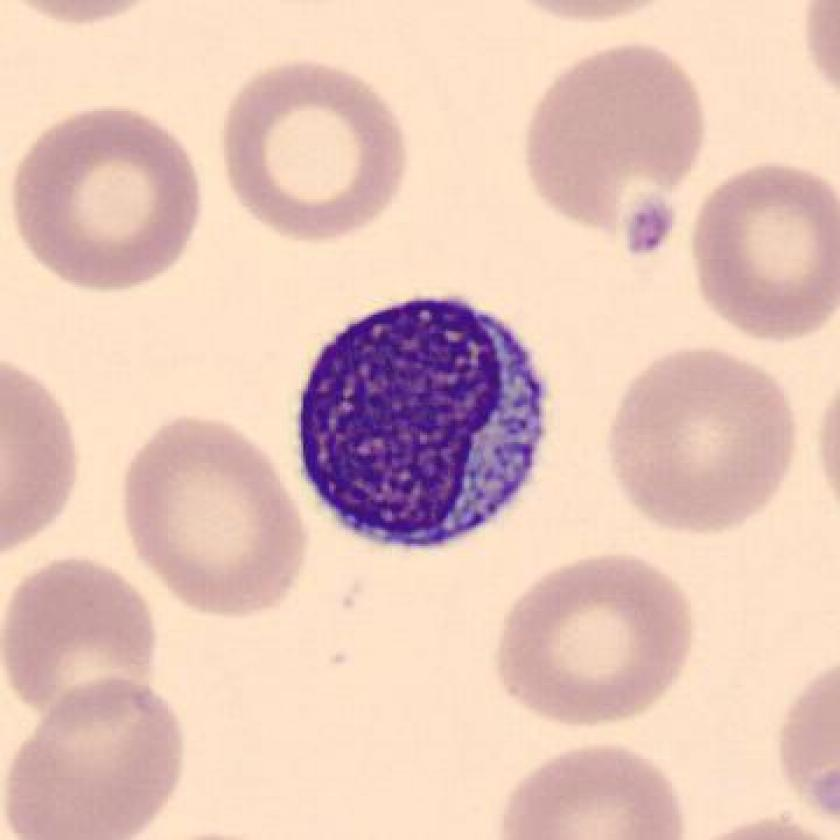lymphocyte: (281, 283, 566, 566)
platelets: (619, 190, 689, 260)
